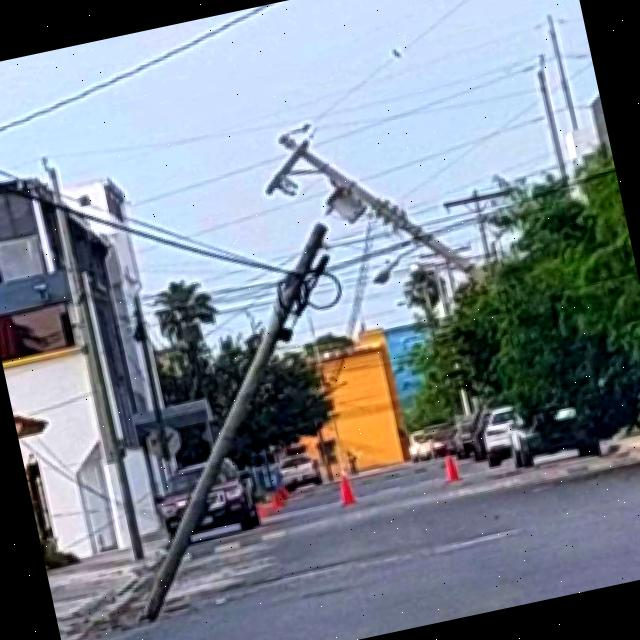Broken Pole: (142, 221, 341, 620), (261, 133, 480, 275)
